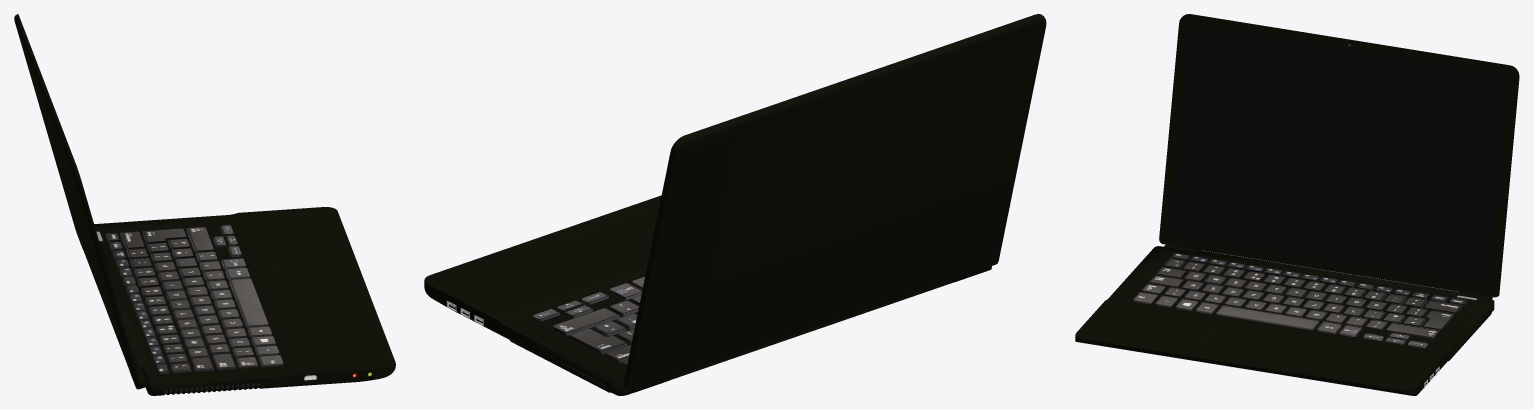
The model's file is laptop.glb.
3 views of the same model, side by side, from view 1: azimuth 30°, elevation 25°; view 2: azimuth 150°, elevation 25°; view 3: azimuth 270°, elevation 25° (orthographic). The views are drawn at different scales.
Visible parts, largest first — view 1: Laptop, keyboard, screen; view 2: screen, Laptop, keyboard; view 3: screen, Laptop, keyboard.
Boxes of the visible parts, left/top/right/bottom form: Laptop: left=94, top=207, right=395, bottom=395; keyboard: left=106, top=225, right=283, bottom=373; screen: left=14, top=14, right=147, bottom=389; screen: left=623, top=14, right=1046, bottom=392; Laptop: left=424, top=195, right=953, bottom=395; keyboard: left=533, top=276, right=644, bottom=366; screen: left=1159, top=14, right=1519, bottom=299; Laptop: left=1075, top=246, right=1494, bottom=395; keyboard: left=1133, top=253, right=1467, bottom=348.
Size of the model in its own units: 8.38 by 4.91 by 9.05.
9 materials, 1 textured.
